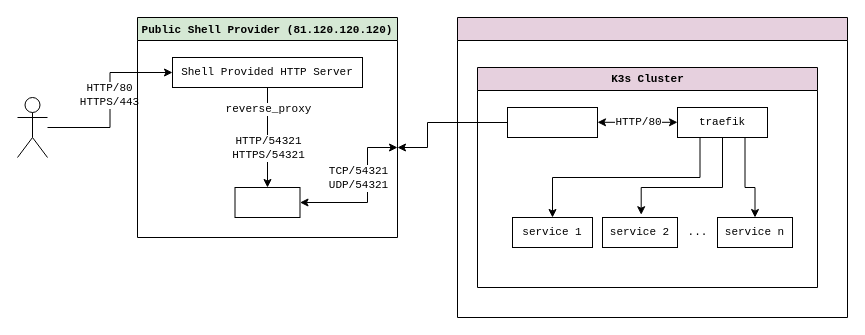
The diagram is 865 pixels wide and 335 high, and some of its shapes have lost their labels. The box of each missing label's shape, as (x1, y1, x2, y2) in pixels:
frp client: (506, 106, 598, 138)
frp server: (234, 186, 300, 218)
Intel NUC host (10.5.10.5): (456, 16, 848, 318)
User: (16, 96, 48, 158)
